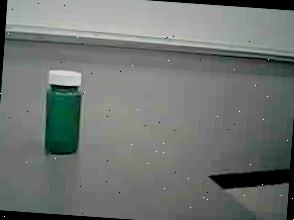Bottle C: (32, 64, 96, 160)
